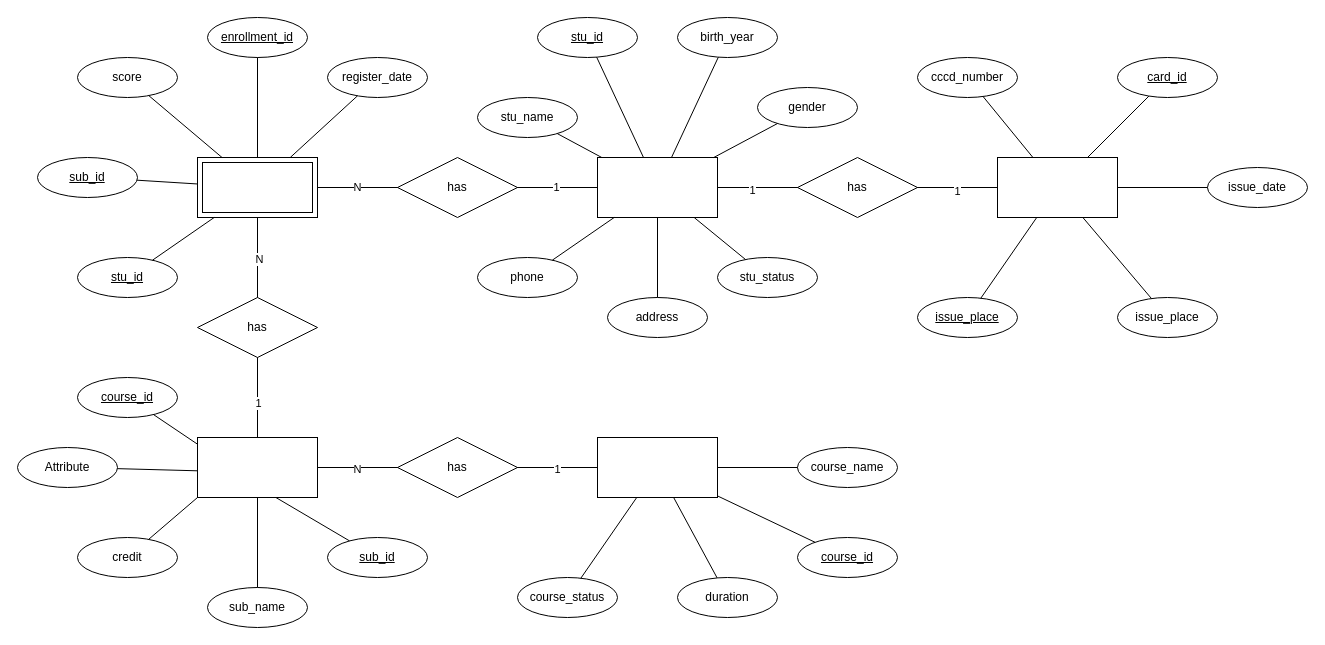
This 1325x645 diagram has some shape labels left out. The box of each missing label's shape, as (x1, y1, x2, y2) in pixels:
CitizenCard: (996, 156, 1118, 218)
Course: (596, 436, 718, 498)
Enrollment: (196, 156, 318, 218)
Student: (596, 156, 718, 218)
Subject: (196, 436, 318, 498)
